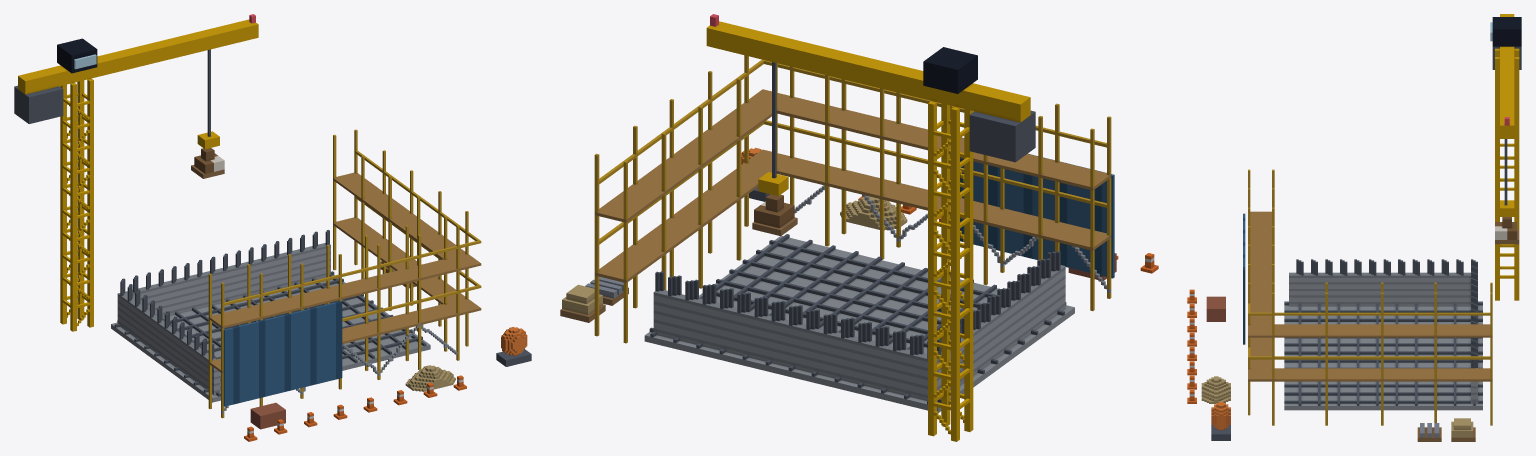
File: hq_scaffold.glb
The picture shows the model from 3 angles, left to right: view 1: azimuth 30°, elevation 25°; view 2: azimuth 150°, elevation 25°; view 3: azimuth 270°, elevation 25°; orthographic projection. The views are drawn at different scales.
Parts seen in each view (by area): view 1: Base; view 2: Base; view 3: Base.
Boxes of the visible parts, bbox=[...] form: Base: bbox=[14, 14, 531, 441]; Base: bbox=[560, 14, 1158, 441]; Base: bbox=[1187, 14, 1521, 441].
Bounding box in the file's own units: 16.9 × 12.4 × 13.8.
